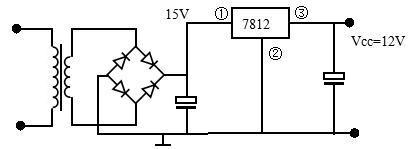bridge: (103, 40, 166, 108)
cap1: (321, 69, 348, 88), (173, 93, 199, 112)
trans: (48, 40, 79, 116)
